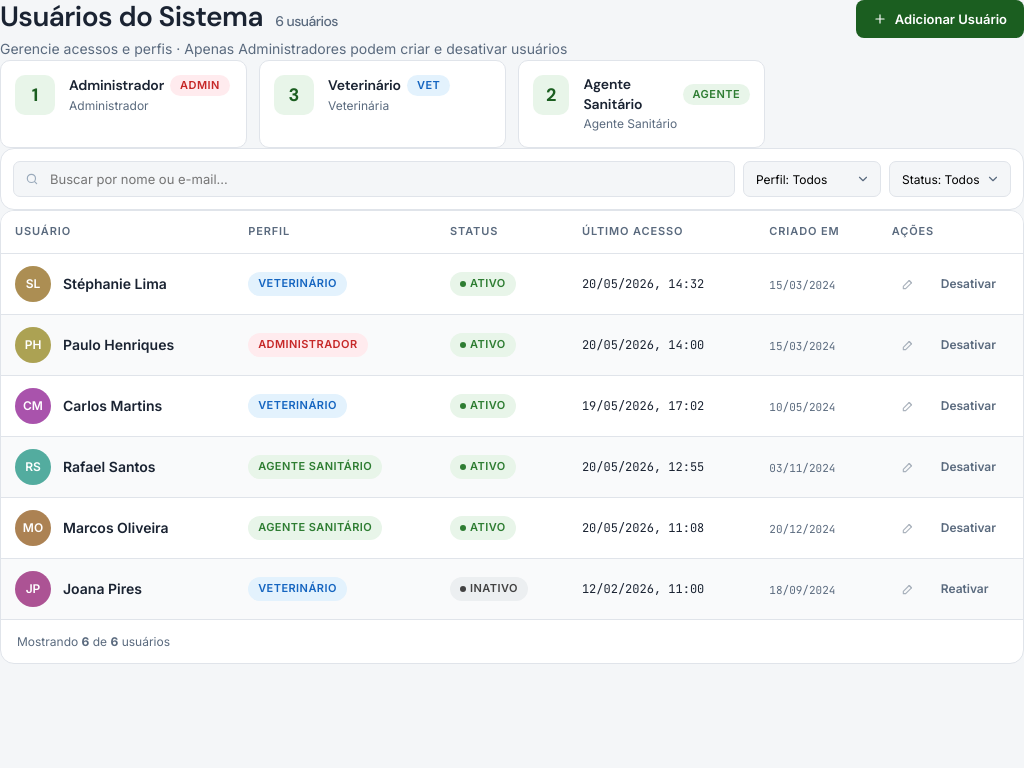
Test: Usuarios › exige CRMV ao criar usuário com perfil Veterinário
Click the button "Adicionar Usuário".
click(940, 19)  # box 856,0 -> 1023,38
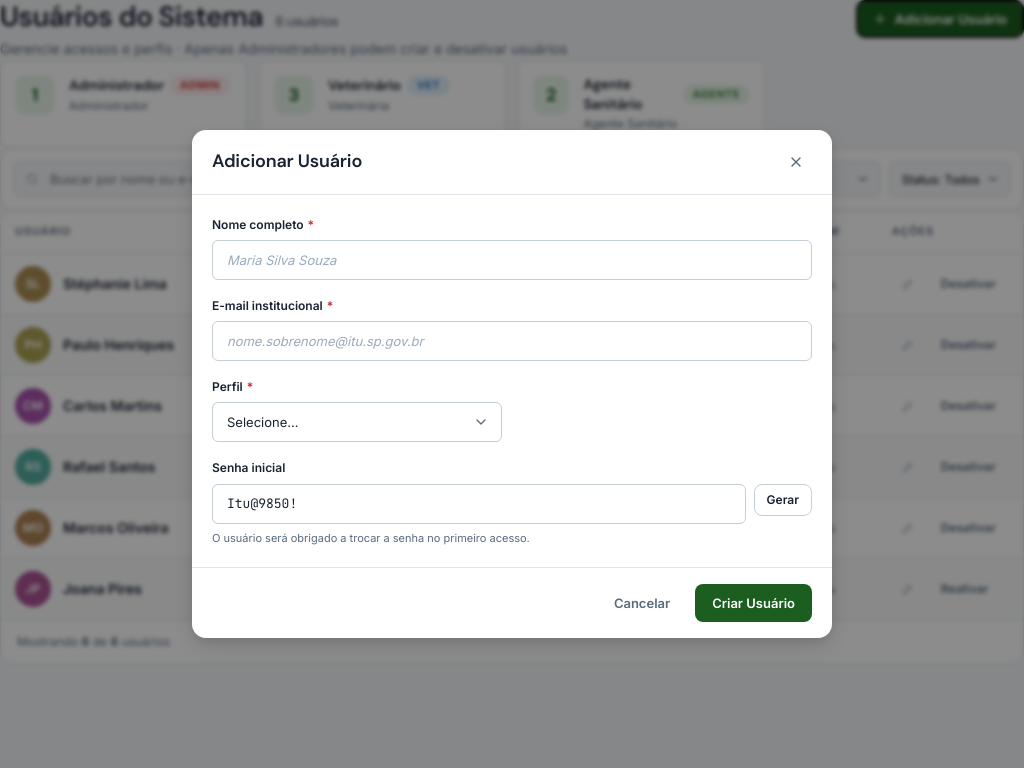
Type "Fernanda Rocha" into the field labelled "Nome completo *".
click(512, 260); type("Fernanda Rocha")  # box 212,240 -> 812,280
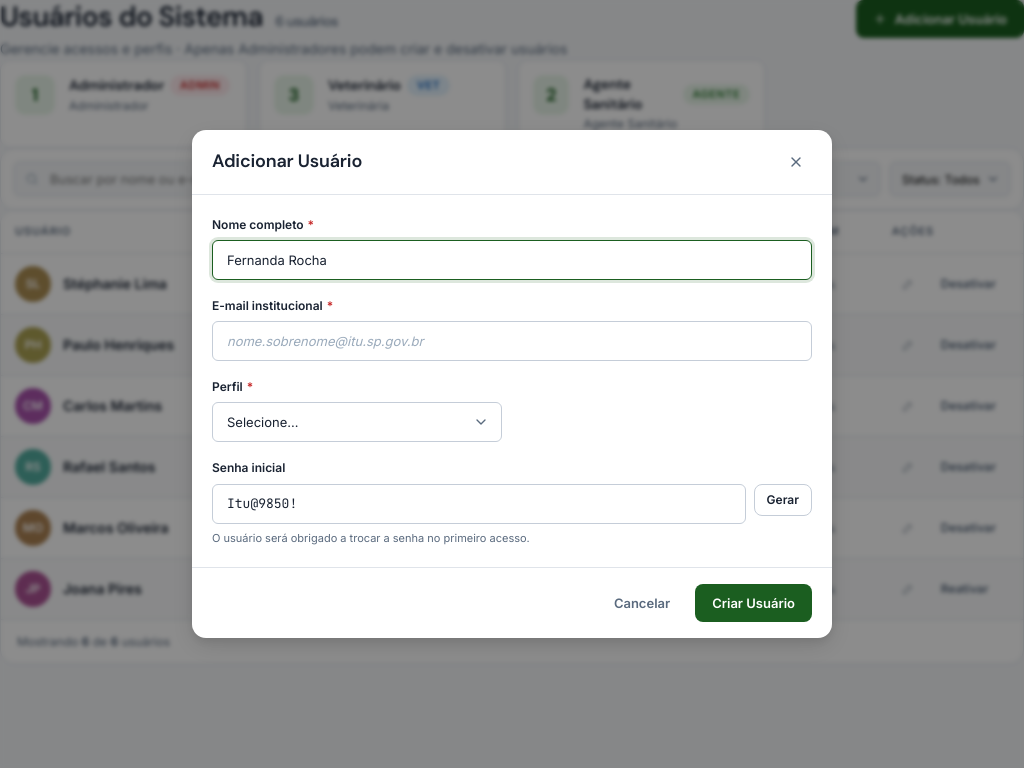
Type "fernanda.rocha@itu.sp.gov.br" into the field labelled "E-mail institucional *".
click(512, 341); type("fernanda.rocha@itu.sp.gov.br")  # box 212,321 -> 812,361
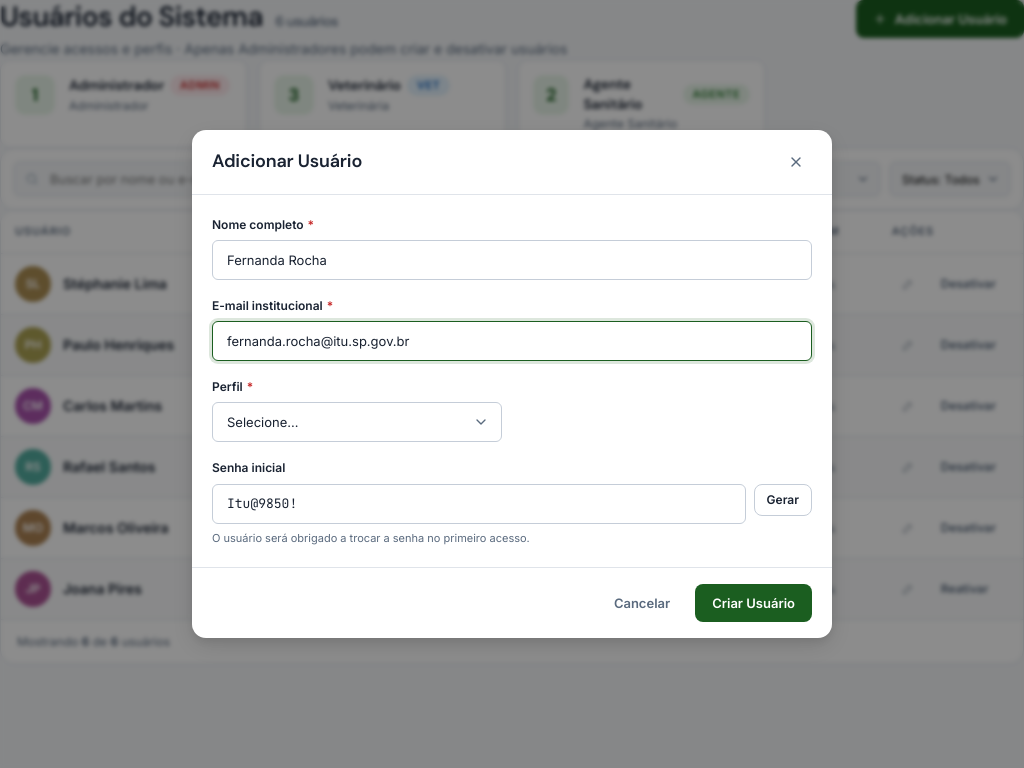
Select "Veterinário" in the dropdown labelled "Perfil *" at (357, 422), box 212,402 -> 502,442
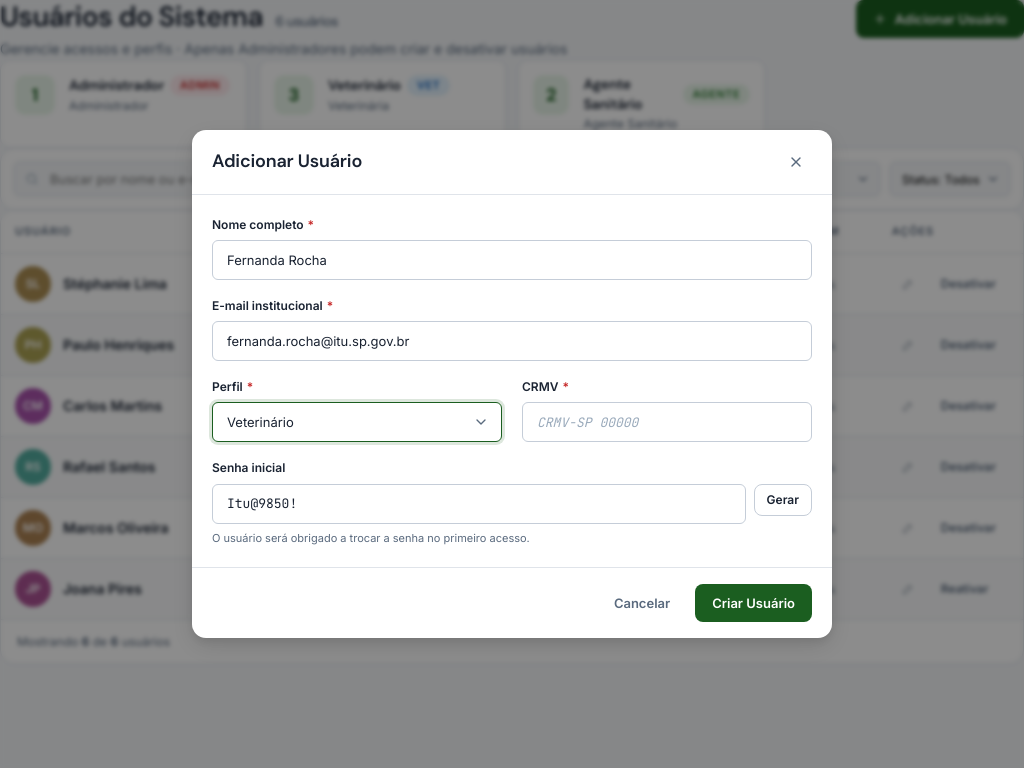
Click the button "Criar Usuário".
click(754, 603)  # box 695,584 -> 812,622
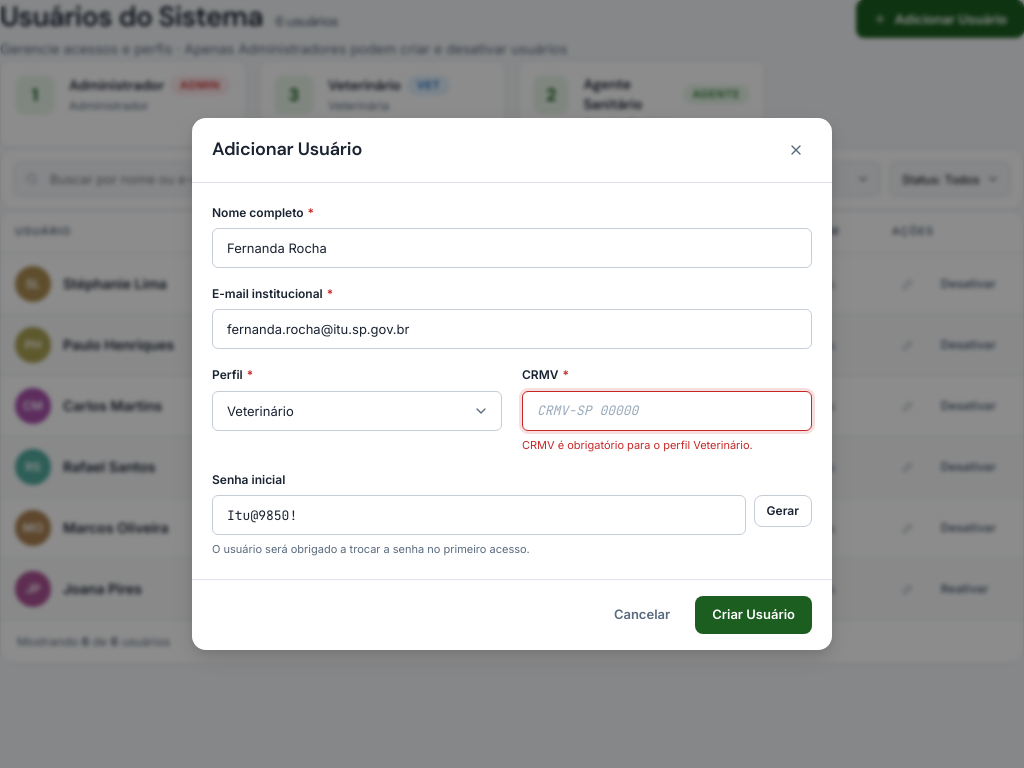
Expected: the text "CRMV é obrigatório para o perfil Veterinário." is shown, 522,438 -> 753,452
